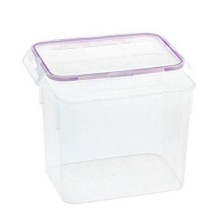plastic_box: (16, 23, 204, 208)
